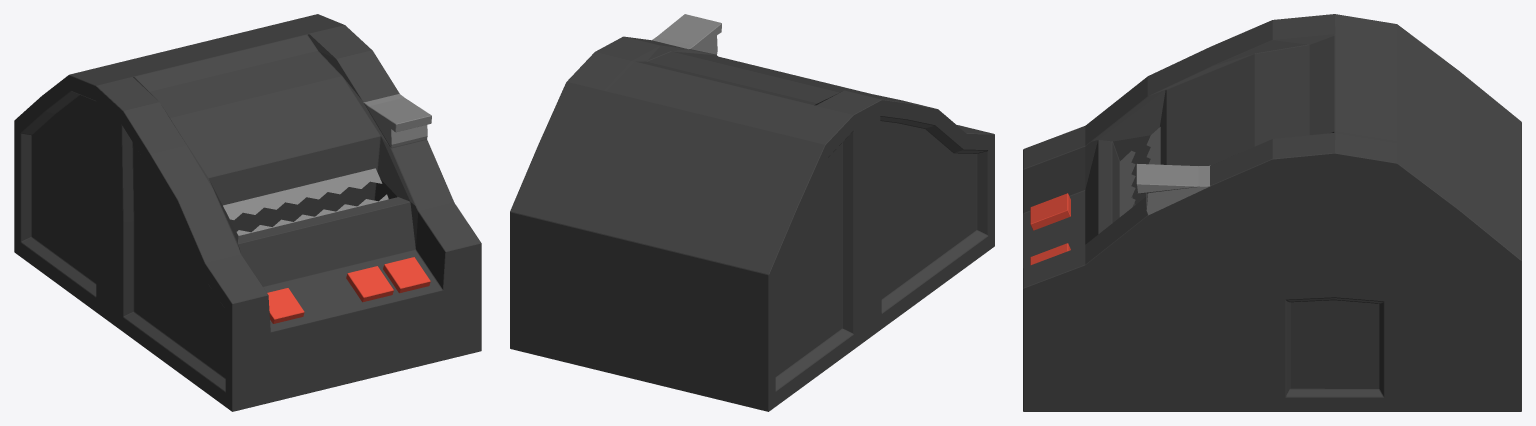
File: Printer.fbx
3 views of the same model, side by side, from view 1: azimuth 30°, elevation 25°; view 2: azimuth 150°, elevation 25°; view 3: azimuth 270°, elevation 25° (orthographic). The views are drawn at different scales.
Visible parts, largest first — view 1: Printer; view 2: Printer; view 3: Printer.
Boxes of the visible parts, x1,y1,x2,y2 form: Printer: [14, 14, 481, 411]; Printer: [510, 14, 994, 411]; Printer: [1023, 14, 1521, 411].
Size of the model in its own units: 17.89 by 15.53 by 27.07.
